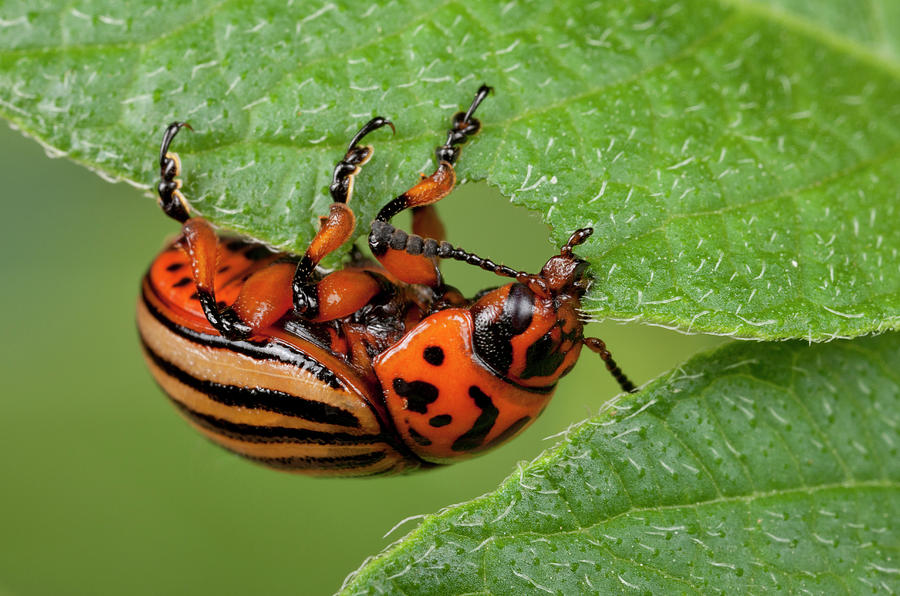hrosc: (119, 149, 588, 456)
